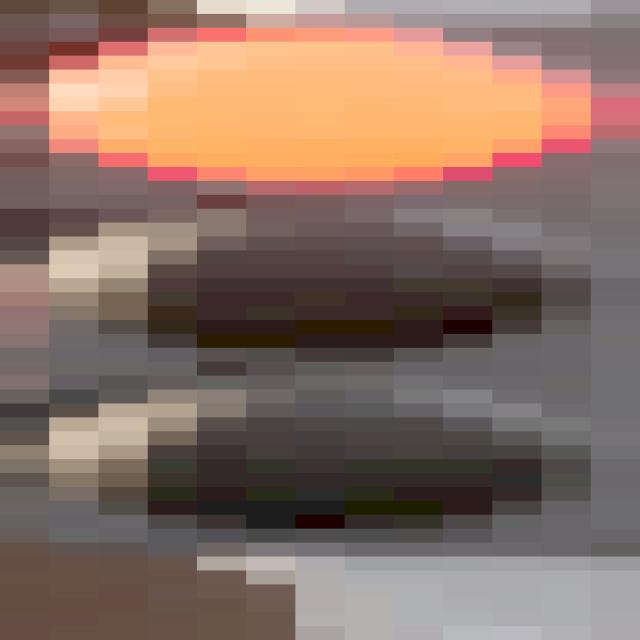red_light: (0, 27, 638, 558)
